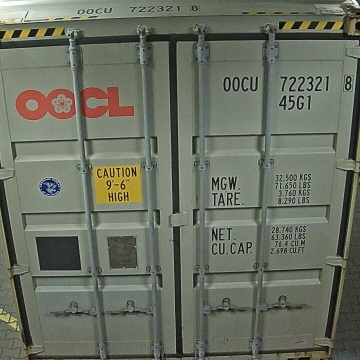serial_id: (223, 75, 353, 91)
